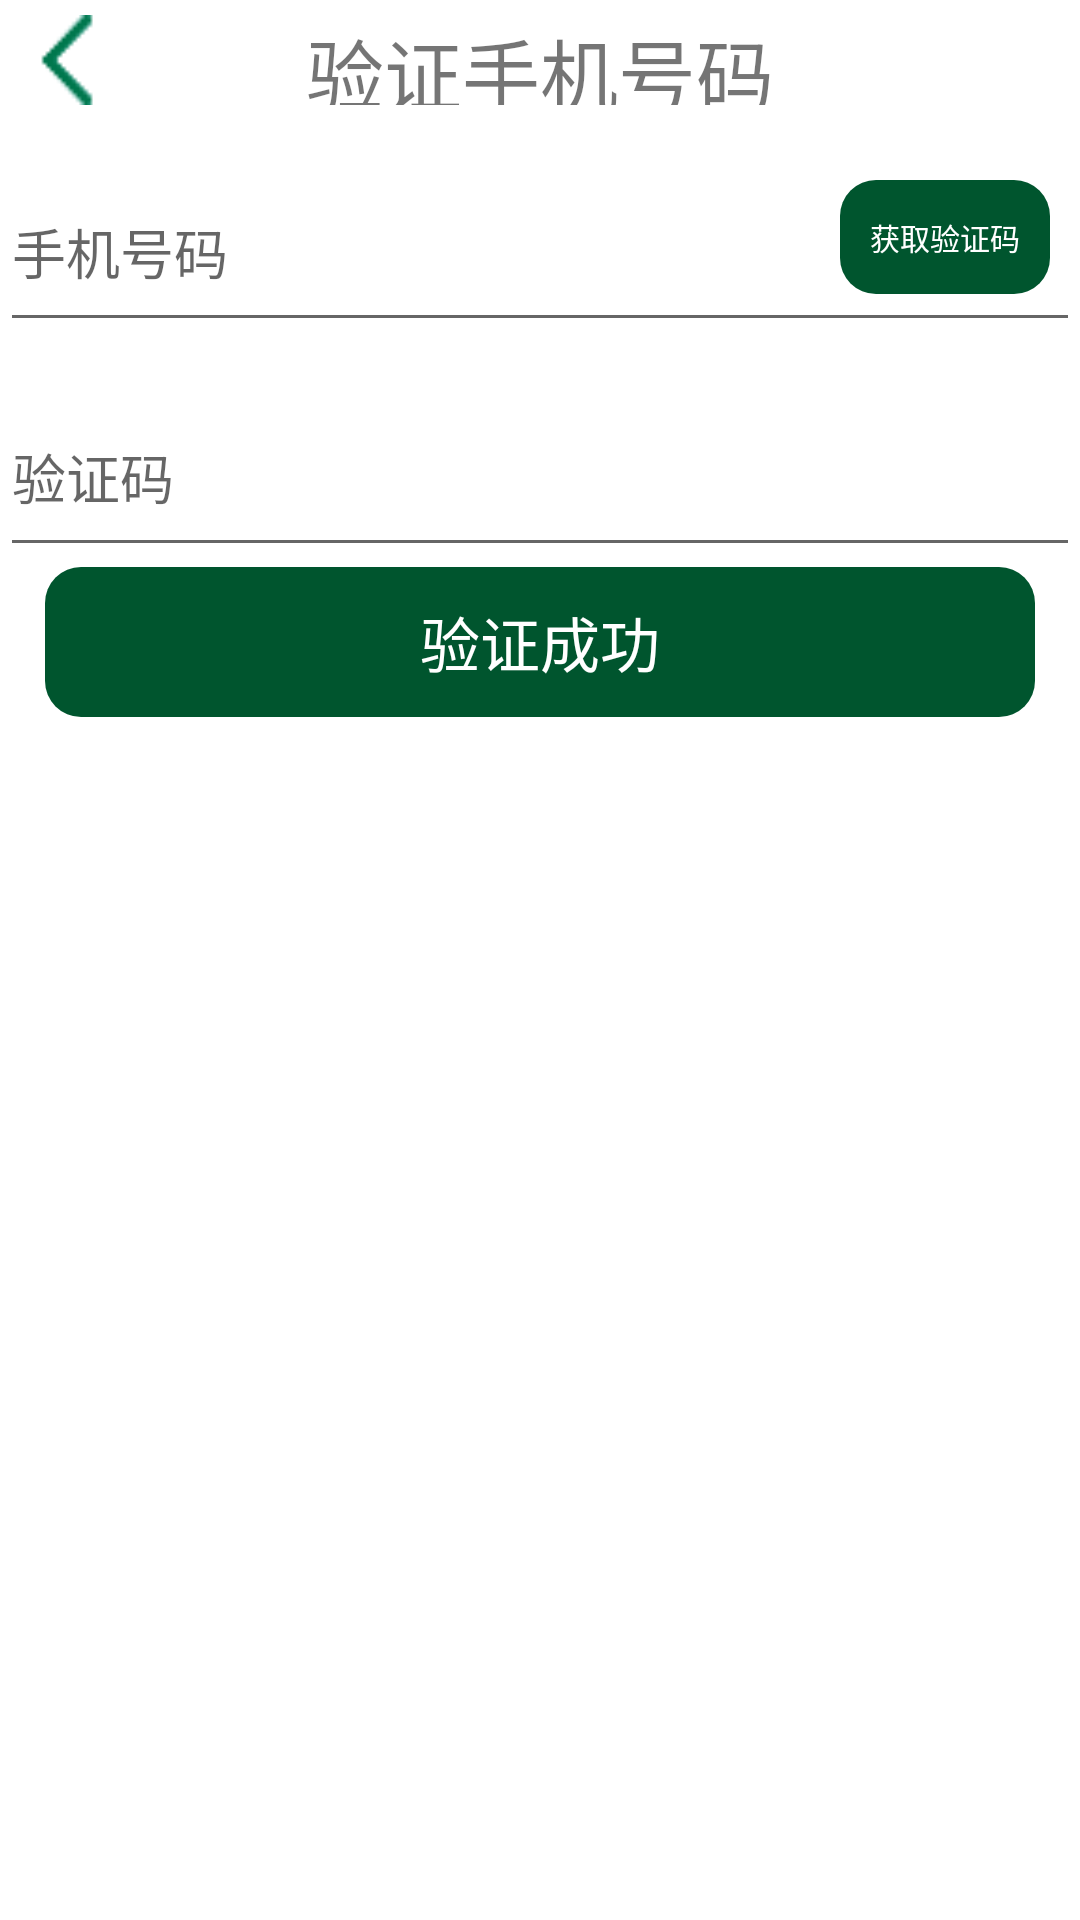

Icon click points for this 1080 × 1920 phone screenshot, format [x,y]:
arro left: [67,60]
